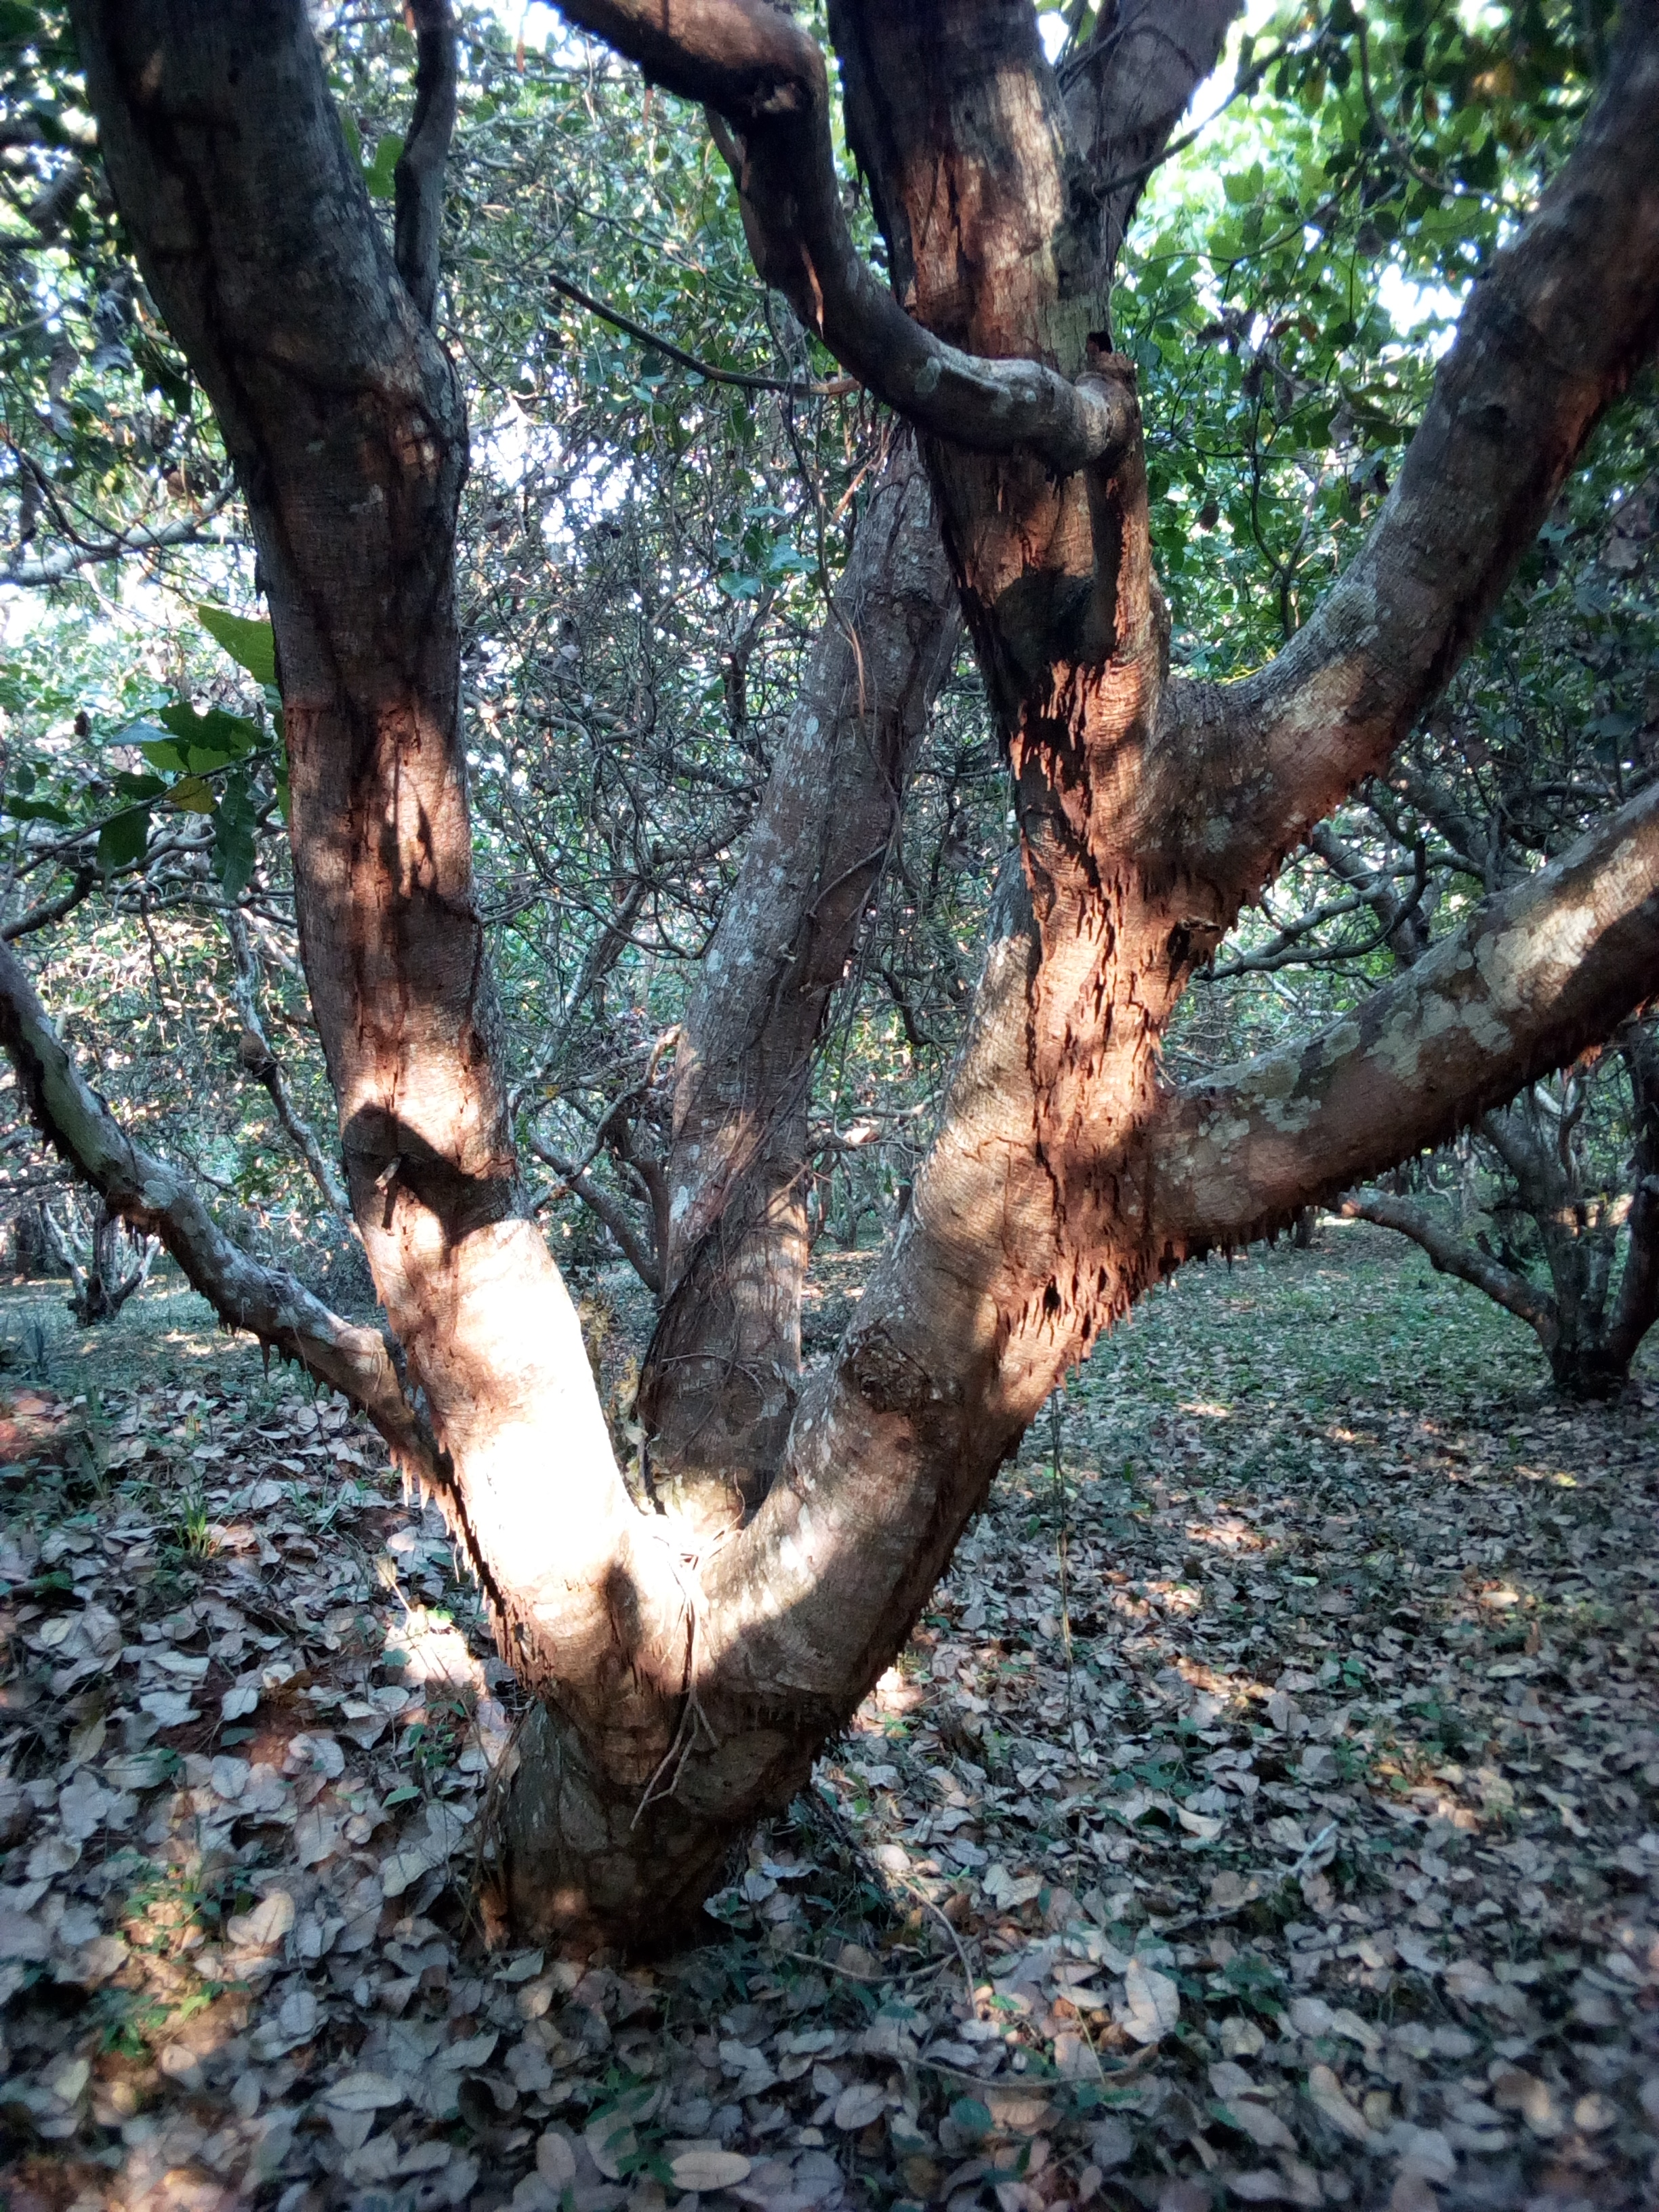Termites: (1012, 554, 1195, 1320), (305, 697, 460, 1103), (904, 124, 1016, 327)
